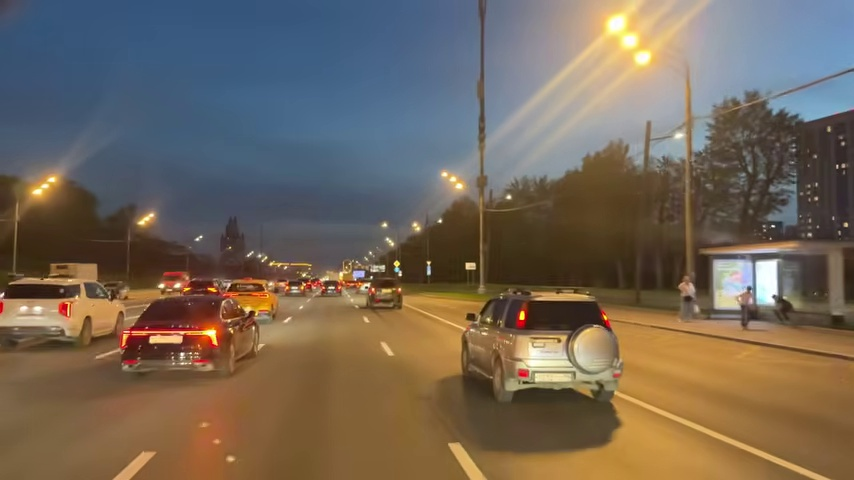acesa: (598, 7, 646, 56), (29, 171, 62, 202), (441, 170, 468, 197), (135, 209, 157, 230), (377, 220, 390, 232)
